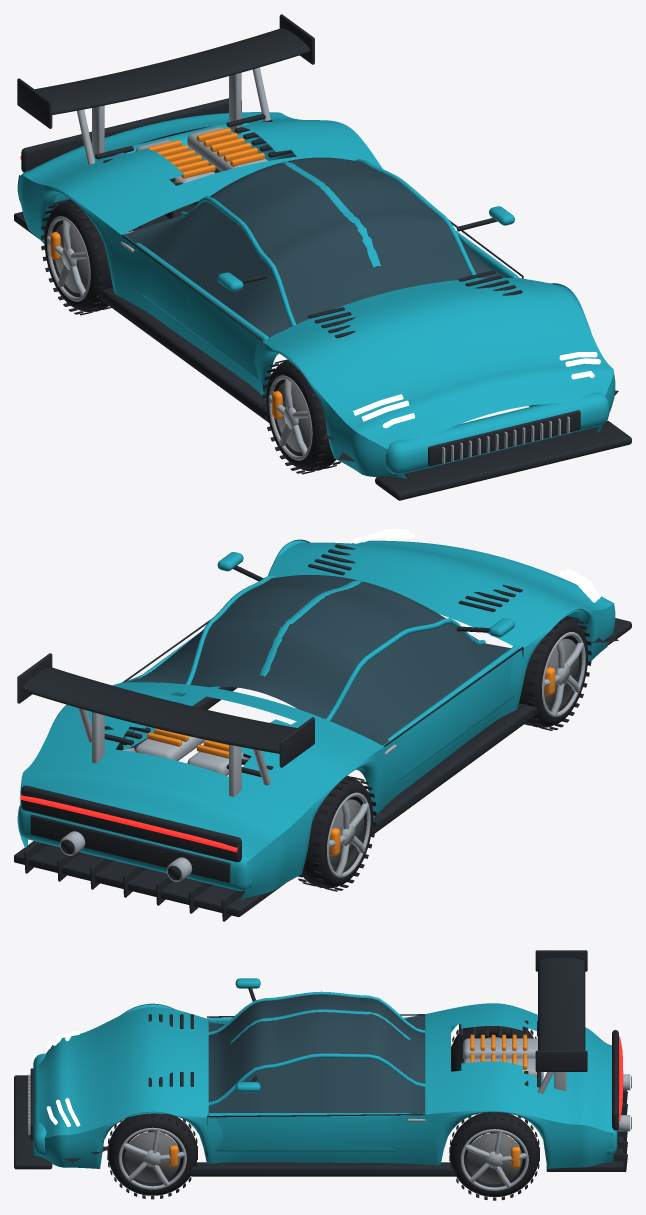
Rendered from concept-tempest.glb.
The picture shows the model from 3 angles, top to bottom: view 1: azimuth 30°, elevation 25°; view 2: azimuth 150°, elevation 25°; view 3: azimuth 270°, elevation 25°; orthographic projection. The views are drawn at different scales.
Visible parts, largest first — view 1: Hood, RoofGlass, RearBodyDeck, SculptedSidePanelL, SideGlazing, Wing, FrontSplitter, FrontBumper, DoorL, Engine, CarbonSillL, TireRearL (+19 smaller); view 2: RearBodyDeck, RoofGlass, Hood, SideGlazing, SculptedSidePanelL, Wing, Diffuser, RearLampFascia, DoorL, RearIntake, CarbonSillL, TireRearL (+19 smaller); view 3: Hood, SculptedSidePanelR, RearBodyDeck, RoofGlass, SideGlazing, DoorR, Wing, CarbonSillR, TireRearR, TireFrontR, Engine, RoofFrame (+17 smaller).
Part boxes in pixels (box(x1,y1,x2,y2)): Hood: box(262, 278, 613, 448); RoofGlass: box(187, 157, 471, 324); RearBodyDeck: box(22, 112, 382, 234); SculptedSidePanelL: box(17, 175, 407, 479); SideGlazing: box(124, 201, 506, 337); Wing: box(35, 28, 310, 114); FrontSplitter: box(375, 421, 631, 500); FrontBumper: box(385, 392, 609, 474); DoorL: box(123, 233, 268, 380); Engine: box(135, 127, 267, 183); CarbonSillL: box(100, 288, 269, 422); TireRearL: box(41, 199, 112, 315); RearBodyDeck: box(21, 682, 383, 859); RoofGlass: box(190, 575, 478, 718); Hood: box(267, 540, 613, 648); SideGlazing: box(127, 623, 510, 745); SculptedSidePanelL: box(240, 603, 615, 900); Wing: box(21, 667, 297, 753); Diffuser: box(14, 841, 285, 921); RearLampFascia: box(21, 785, 241, 862); DoorL: box(383, 646, 518, 781); RearIntake: box(30, 814, 230, 882); CarbonSillL: box(371, 703, 536, 833); TireRearL: box(298, 775, 376, 891); Hood: box(38, 1007, 208, 1138); SculptedSidePanelR: box(33, 1110, 613, 1168); RearBodyDeck: box(425, 1003, 609, 1132); RoofGlass: box(208, 994, 425, 1102); SideGlazing: box(208, 1015, 425, 1113); DoorR: box(207, 1113, 424, 1151); Wing: box(538, 958, 585, 1050); CarbonSillR: box(189, 1162, 456, 1176); TireRearR: box(449, 1112, 539, 1200); TireFrontR: box(107, 1113, 197, 1199); Engine: box(463, 1034, 543, 1078); RoofFrame: box(208, 991, 425, 1105).
Bounding box in the file's own units: 2.1 × 1.31 × 4.99.
